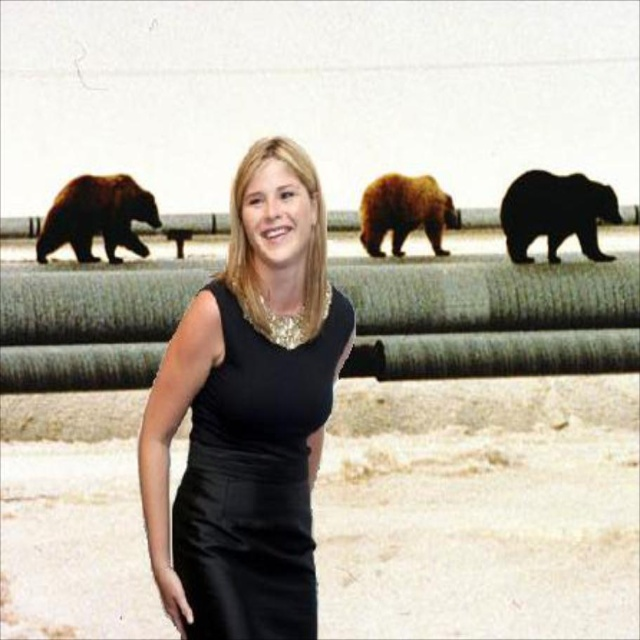Brown bear: (33, 172, 162, 266), (359, 169, 462, 257)
